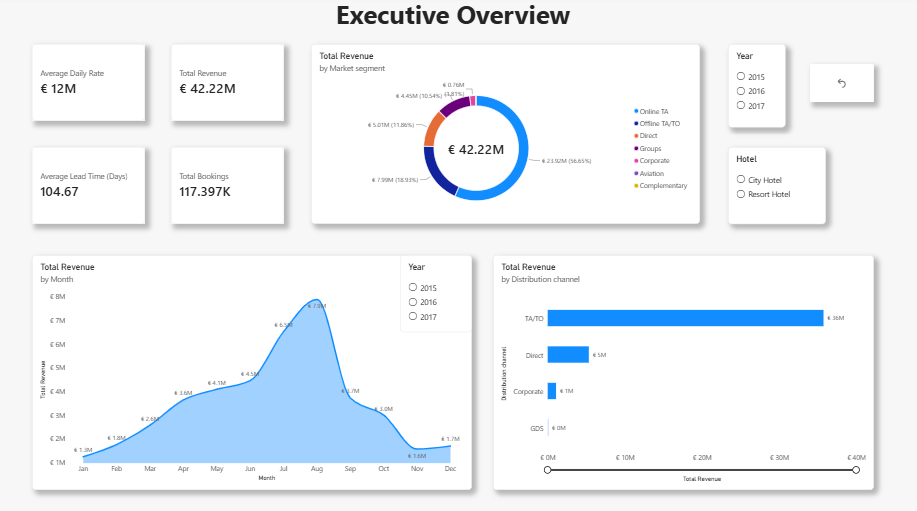

Layout of this report page (visuals, bound fields, positions):
{"tool":"powerbi","page":{"name":"Executive Overview","canvas":[1920,1080],"ordinal":0},"visuals":[{"type":"cardVisual","fields":{"Data":["Booking and Revenue.Total Revenue"]},"box":[362.8,100.1,235.6,160.5],"z":0},{"type":"lineChart","fields":{"Category":["Calendar.Month"],"Y":["Booking and Revenue.Total Revenue"]},"box":[73,540,917.4,490],"z":1},{"type":"clusteredBarChart","fields":{"Category":["Booking and Revenue.Distribution channel"],"Y":["Booking and Revenue.Total Revenue"]},"box":[1034.1,540,794.4,490],"z":5},{"type":"donutChart","fields":{"Category":["Booking and Revenue.Market segment"],"Y":["Booking and Revenue.Total Revenue"]},"box":[654.7,100.1,811,375.3],"z":6},{"type":"cardVisual","fields":{"Data":["Avg(Booking and Revenue.Lead time)"]},"box":[73,314.8,235.6,160.5],"z":7},{"type":"textbox","box":[72.5,0,1755,77.5],"z":8},{"type":"cardVisual","fields":{"Data":["CountNonNull(Booking and Revenue.Booking ID)"]},"box":[362.8,314.8,235.6,160.5],"z":9},{"type":"listSlicer","fields":{"Values":["Booking and Revenue.Hotel"]},"box":[1524.1,314.8,204.3,160.5],"z":10},{"type":"listSlicer","fields":{"Values":["Calendar.Year"]},"box":[1523.1,100.8,120.1,173.8],"z":11},{"type":"actionButton","box":[1695.1,141.8,132.5,80],"z":15},{"type":"cardVisual","fields":{"Data":["Sum(Booking and Revenue.ADR (Euros €))"]},"box":[73,100.1,235.6,160.5],"z":16},{"type":"listSlicer","fields":{"Values":["Calendar.Year"]},"box":[840.2,540,150.1,160.5],"z":17}]}

Visuals, with their boxes in screenshot pixels (x1, y1, x2, y2), scaled from the page's 1920x1080 canvas onto the 917x511 screenshot:
cardVisual - Booking and Revenue.Total Revenue: region(173, 47, 286, 123)
lineChart - Calendar.Month x Booking and Revenue.Total Revenue: region(35, 256, 473, 487)
clusteredBarChart - Booking and Revenue.Distribution channel x Booking and Revenue.Total Revenue: region(494, 256, 873, 487)
donutChart - Booking and Revenue.Market segment x Booking and Revenue.Total Revenue: region(313, 47, 700, 225)
cardVisual - Avg(Booking and Revenue.Lead time): region(35, 149, 147, 225)
textbox: region(35, 0, 873, 37)
cardVisual - CountNonNull(Booking and Revenue.Booking ID): region(173, 149, 286, 225)
listSlicer - Booking and Revenue.Hotel: region(728, 149, 825, 225)
listSlicer - Calendar.Year: region(727, 48, 785, 130)
actionButton: region(810, 67, 873, 105)
cardVisual - Sum(Booking and Revenue.ADR (Euros €)): region(35, 47, 147, 123)
listSlicer - Calendar.Year: region(401, 256, 473, 331)
